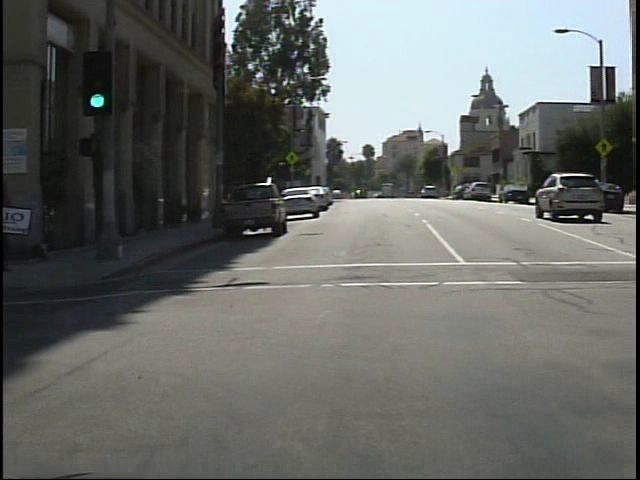person: (2, 162, 19, 278)
